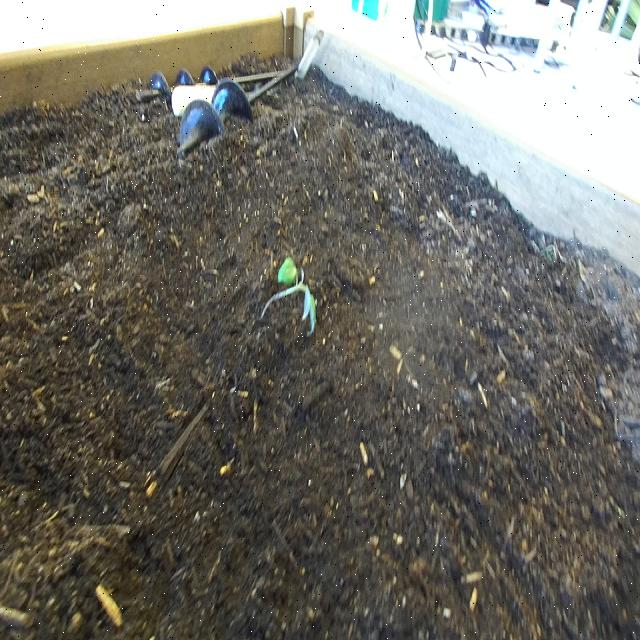Healthy: (258, 253, 324, 340)
